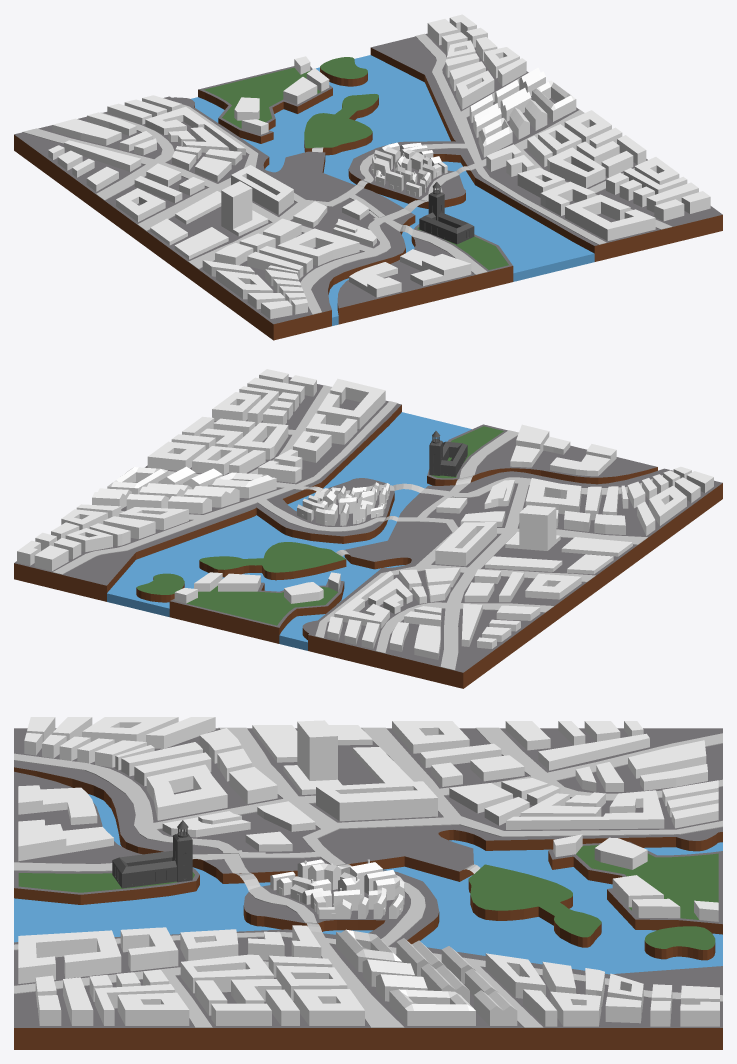
The model's file is City_miniature4.gltf.
3 views of the same model, one above another, from view 1: azimuth 30°, elevation 25°; view 2: azimuth 150°, elevation 25°; view 3: azimuth 270°, elevation 25° (orthographic). The views are drawn at different scales.
Visible parts, largest first — view 1: Land, OldTown, House045, House082, House077, House085, House073, Townhall, House031, House052, House086, House021 (+37 smaller); view 2: Land, OldTown, House045, House073, House077, House085, House082, House052, House086, Townhall, House031, House025 (+36 smaller); view 3: Land, OldTown, House045, House073, House052, House082, House077, Townhall, House021, House085, House025, House031 (+68 smaller).
Boxes of the visible parts, <box> form: Land: <box>14,33,722,340</box>; OldTown: <box>48,142,447,196</box>; House045: <box>565,194,655,241</box>; House082: <box>277,228,359,265</box>; House077: <box>221,181,268,236</box>; House085: <box>400,249,471,286</box>; House073: <box>231,165,293,214</box>; Townhall: <box>419,182,474,244</box>; House031: <box>547,147,605,188</box>; House052: <box>145,106,245,155</box>; House086: <box>349,262,401,297</box>; House021: <box>532,80,576,121</box>; Land: <box>14,377,722,688</box>; OldTown: <box>297,482,496,648</box>; House045: <box>317,378,385,429</box>; House073: <box>435,522,496,566</box>; House077: <box>505,505,560,550</box>; House085: <box>510,424,570,467</box>; House082: <box>525,478,581,514</box>; House052: <box>334,571,393,628</box>; House086: <box>550,444,616,476</box>; Townhall: <box>429,431,467,476</box>; House031: <box>233,422,288,459</box>; House025: <box>147,441,205,470</box>; Land: <box>14,727,722,1049</box>; OldTown: <box>270,721,643,918</box>; House045: <box>18,930,121,983</box>; House073: <box>316,781,437,821</box>; House052: <box>506,790,664,829</box>; House082: <box>146,764,227,820</box>; House077: <box>283,720,342,794</box>; Townhall: <box>112,820,192,888</box>; House021: <box>389,989,475,1025</box>; House085: <box>18,819,113,861</box>; House025: <box>293,989,364,1025</box>; House031: <box>180,954,273,993</box>.
Bounding box in the file's own units: 20 × 2.5 × 20.
